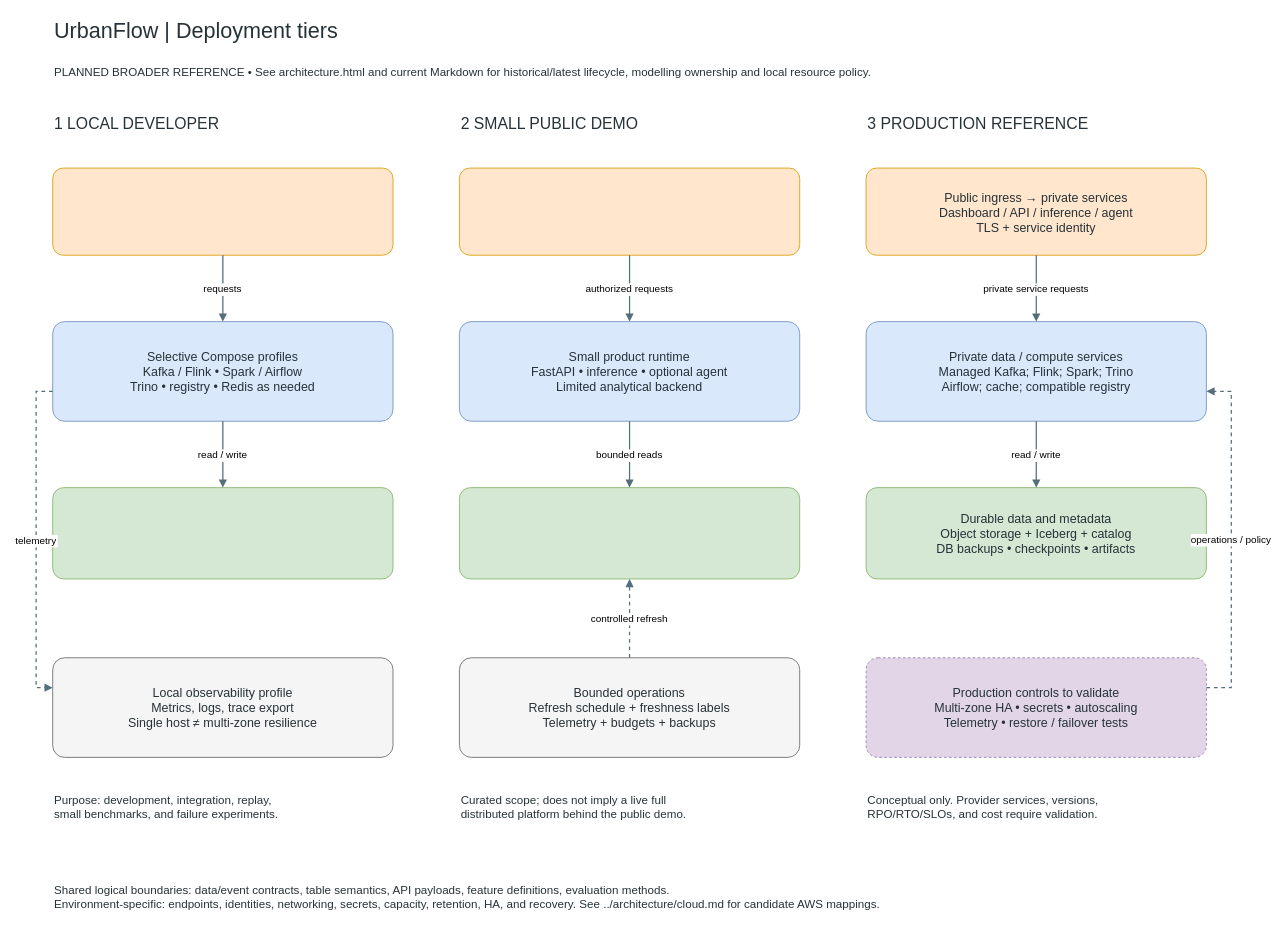
The diagram is 1286 pixels wide and 937 high, and some of its shapes have lost their labels. The centre of each missing label's shape, as x and y in pixels:
"Curated dataset / artifacts Optional Redis cache PostgreSQL application metadata" belongs at (x=629, y=533).
"Local product profile Next.js + FastAPI Inference / agent when available" belongs at (x=222, y=211).
"Persistent local state MinIO + Iceberg + catalog PostgreSQL / checkpoints" belongs at (x=222, y=533).
"Public HTTPS entry Dashboard + bounded API Authentication and rate limits" belongs at (x=629, y=211).
